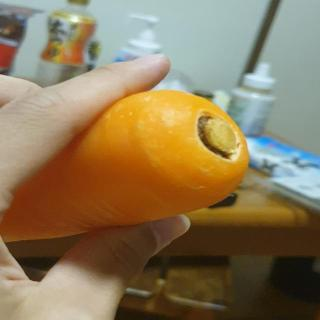carrot: (0, 86, 258, 247)
